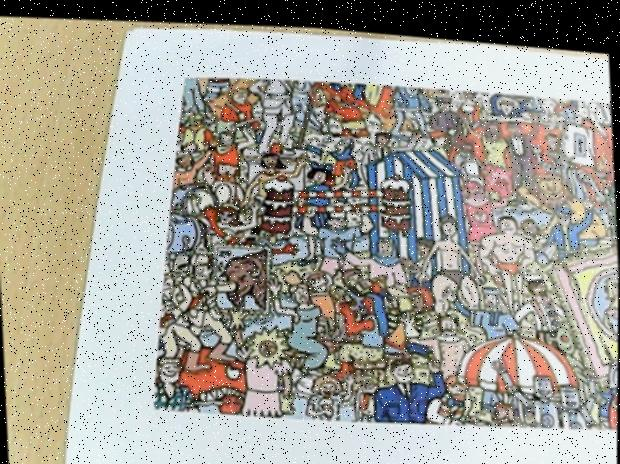waldo: (544, 120, 570, 151)
